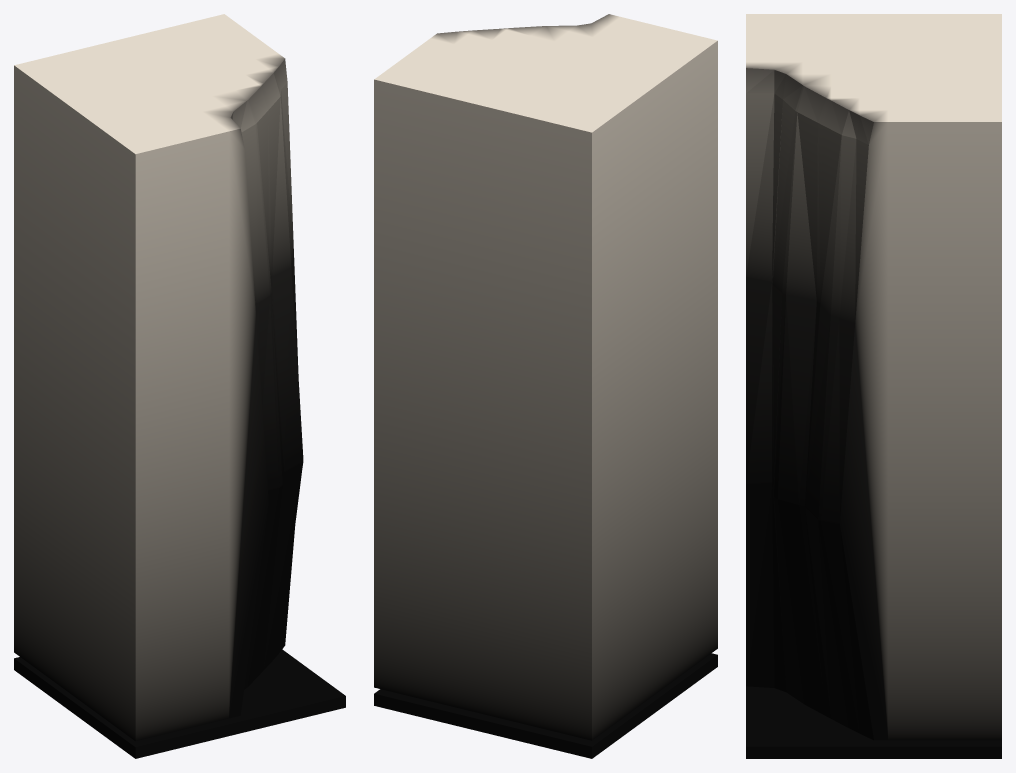
File: SM_VKI_Ground_Cave_OXOO_Q11.fbx
The picture shows the model from 3 angles, left to right: view 1: azimuth 30°, elevation 25°; view 2: azimuth 150°, elevation 25°; view 3: azimuth 270°, elevation 25°; orthographic projection. The views are drawn at different scales.
Parts seen in each view (by area): view 1: SM_VKI_Ground_Cave_OXOO_Q11.001; view 2: SM_VKI_Ground_Cave_OXOO_Q11.001; view 3: SM_VKI_Ground_Cave_OXOO_Q11.001.
Boxes of the visible parts, bbox=[...] form: SM_VKI_Ground_Cave_OXOO_Q11.001: bbox=[14, 14, 345, 758]; SM_VKI_Ground_Cave_OXOO_Q11.001: bbox=[374, 14, 717, 758]; SM_VKI_Ground_Cave_OXOO_Q11.001: bbox=[746, 14, 1001, 758].
Size of the model in its own units: 1.5 by 4.12 by 1.5.
